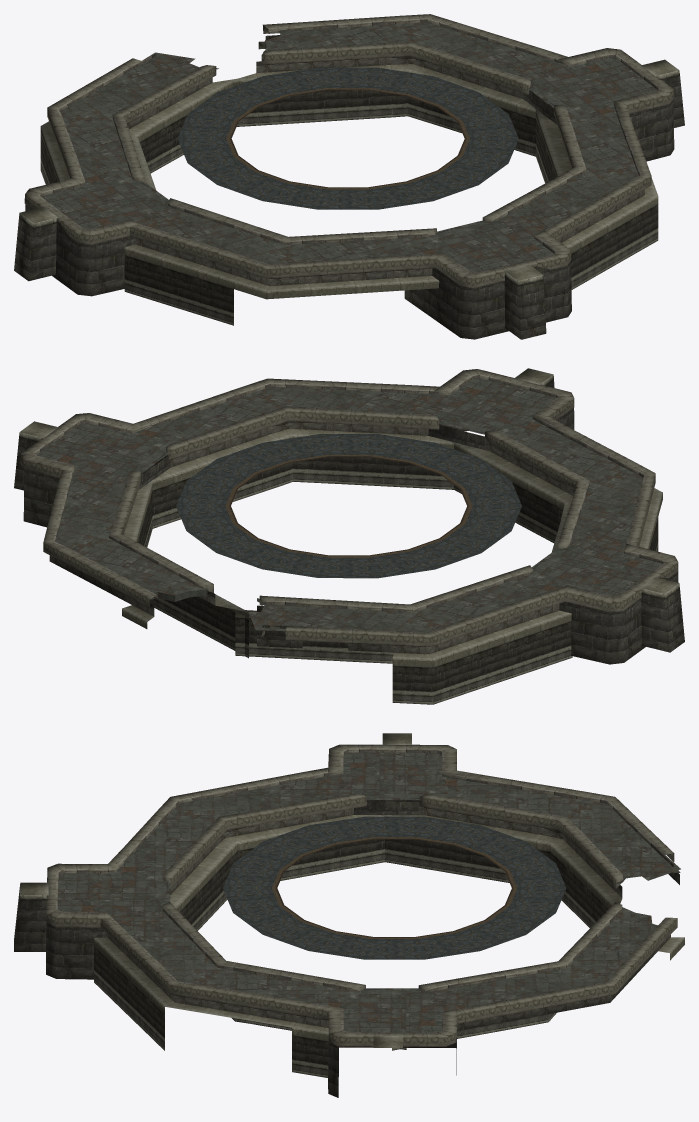
The model's file is dcfx4_yuantai_01.FBX.
3 views of the same model, one above another, from view 1: azimuth 30°, elevation 25°; view 2: azimuth 150°, elevation 25°; view 3: azimuth 270°, elevation 25° (orthographic).
Visible parts, largest first — view 1: dcfx4_yuantai_01; view 2: dcfx4_yuantai_01; view 3: dcfx4_yuantai_01.
Part boxes in pixels (bbox=[...]): dcfx4_yuantai_01: bbox=[14, 14, 684, 339]; dcfx4_yuantai_01: bbox=[14, 368, 684, 704]; dcfx4_yuantai_01: bbox=[14, 733, 684, 1097].
Bounding box in the file's own units: 4988 × 489 × 4418.
